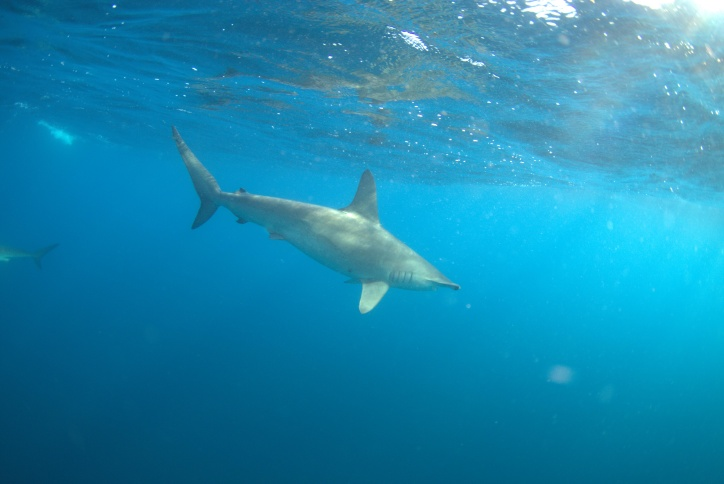Hammer: (166, 119, 477, 327)
